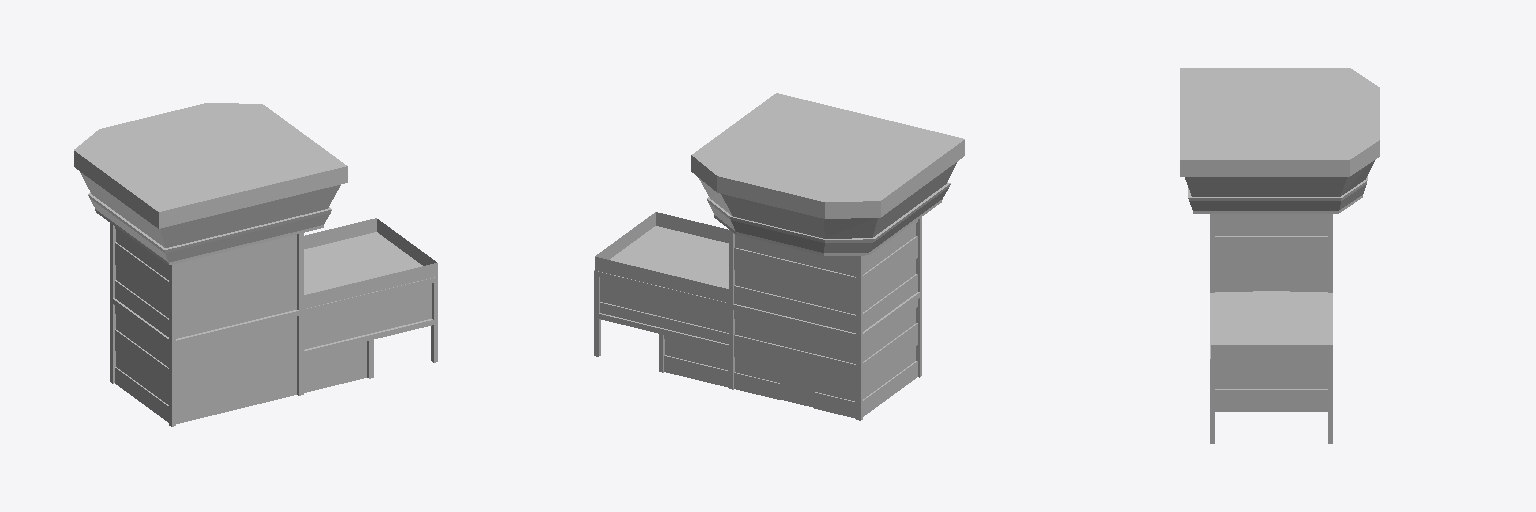
File: Building-G-08.obj
3 renders of one model, left to right at view 1: azimuth 30°, elevation 25°; view 2: azimuth 150°, elevation 25°; view 3: azimuth 270°, elevation 25°, orthographic.
Parts seen in each view (by area): view 1: Building-G-08; view 2: Building-G-08; view 3: Building-G-08.
Part boxes in pixels (bbox=[...]): Building-G-08: bbox=[74, 103, 437, 426]; Building-G-08: bbox=[594, 93, 964, 420]; Building-G-08: bbox=[1180, 68, 1379, 443].
Bounding box in the file's own units: 31.4 × 23.67 × 18.44.